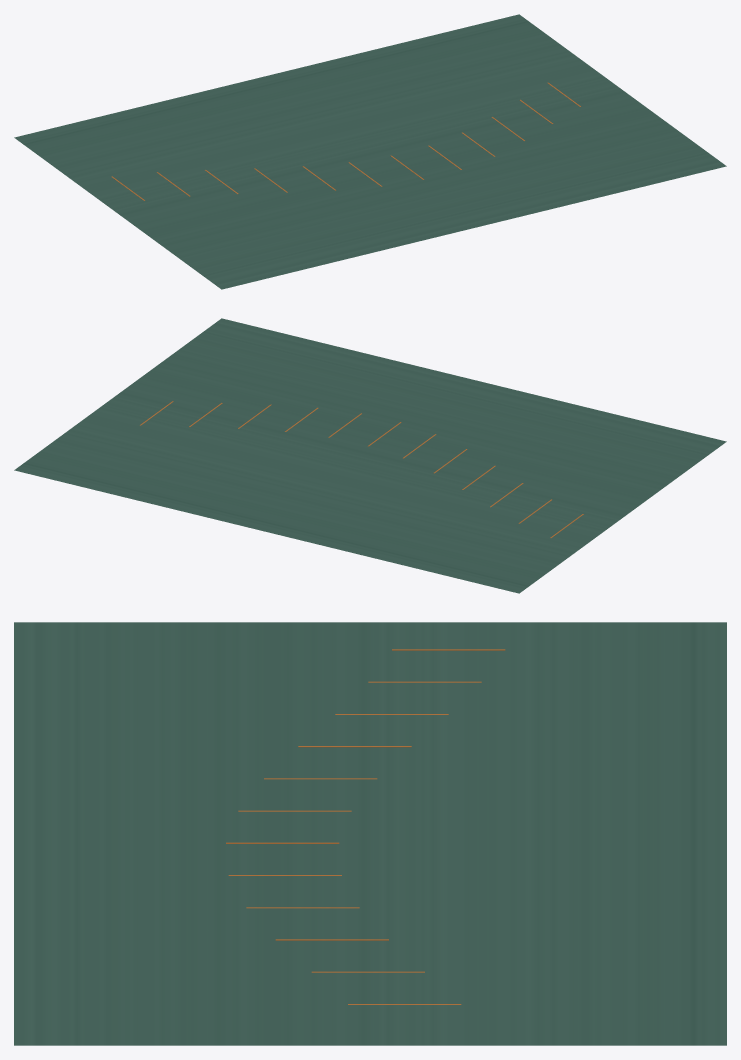
The model's file is 257_L119_L8_LayerReference.obj.
The picture shows the model from 3 angles, top to bottom: view 1: azimuth 30°, elevation 25°; view 2: azimuth 150°, elevation 25°; view 3: azimuth 270°, elevation 25°; orthographic projection. The views are drawn at different scales.
Visible parts, largest first — view 1: 257_L119_L8_LayerReference; view 2: 257_L119_L8_LayerReference; view 3: 257_L119_L8_LayerReference.
Part boxes in pixels (x1,y1,x2,y2): 257_L119_L8_LayerReference: (14,14,726,289); 257_L119_L8_LayerReference: (14,318,726,593); 257_L119_L8_LayerReference: (14,622,726,1045).
Bounding box in the file's own units: 0.486 × 0.000172 × 0.346.
Materials: 2 (2 with a texture image).
